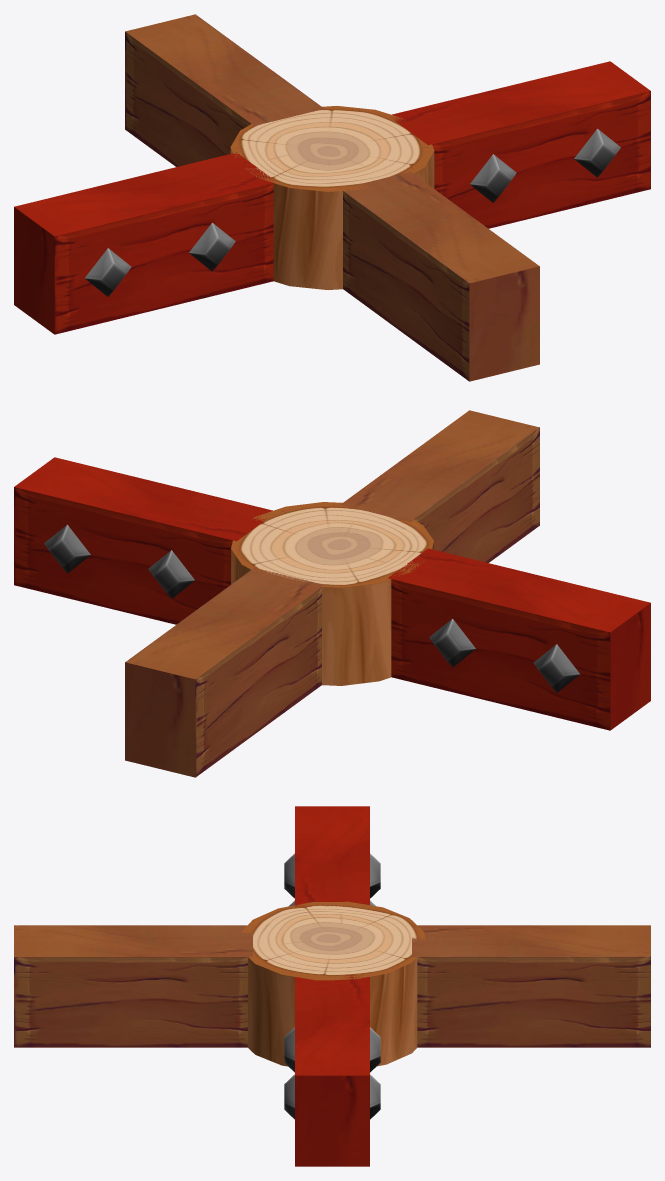
File: four_blade_double_01.fbx
3 views of the same model, one above another, from view 1: azimuth 30°, elevation 25°; view 2: azimuth 150°, elevation 25°; view 3: azimuth 270°, elevation 25° (orthographic). The views are drawn at different scales.
Visible parts, largest first — view 1: Blade_5, Blade_6, Blade_4, wood_center_11, Blade_3; view 2: Blade_5, Blade_6, Blade_3, wood_center_11, Blade_4; view 3: Blade_4, Blade_3, wood_center_11, Blade_6, Blade_5.
Part boxes in pixels (box(x1,y1,x2,y2)): Blade_5: box(14, 152, 275, 334); Blade_6: box(390, 61, 650, 228); Blade_4: box(343, 172, 539, 381); wood_center_11: box(230, 106, 434, 289); Blade_3: box(125, 14, 324, 166); Blade_5: box(388, 548, 650, 730); Blade_6: box(14, 457, 272, 624); Blade_3: box(125, 568, 323, 777); wood_center_11: box(231, 502, 433, 685); Blade_4: box(340, 410, 539, 562); Blade_4: box(14, 925, 252, 1047); Blade_3: box(412, 925, 650, 1047); wood_center_11: box(241, 901, 424, 1066); Blade_6: box(284, 975, 380, 1166); Blade_5: box(284, 806, 380, 906).
Size of the model in its own units: 254 by 40 by 254.
